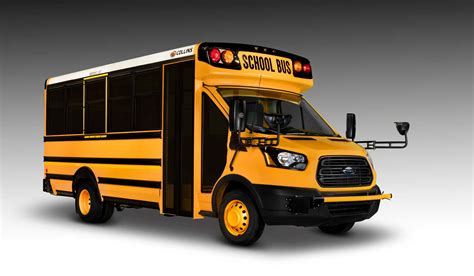bus: (42, 50, 379, 242)
